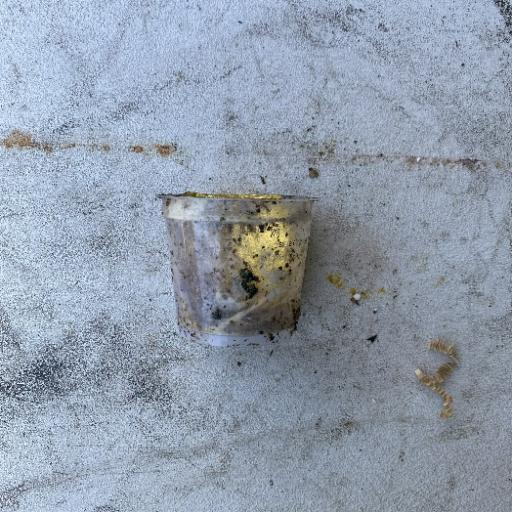Plastic: (156, 189, 320, 348)
